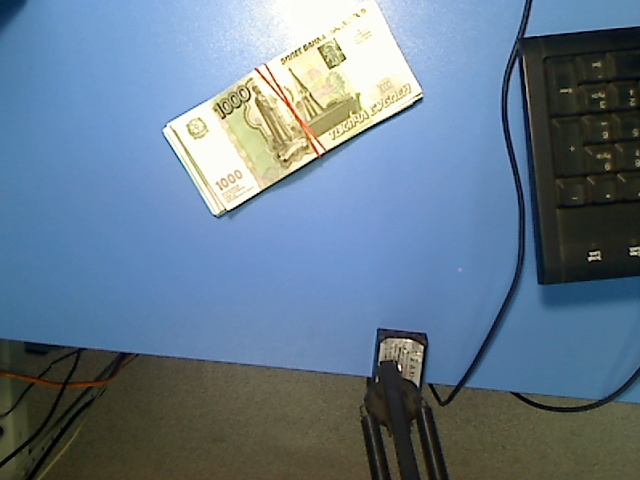banknotes: (159, 1, 424, 218)
